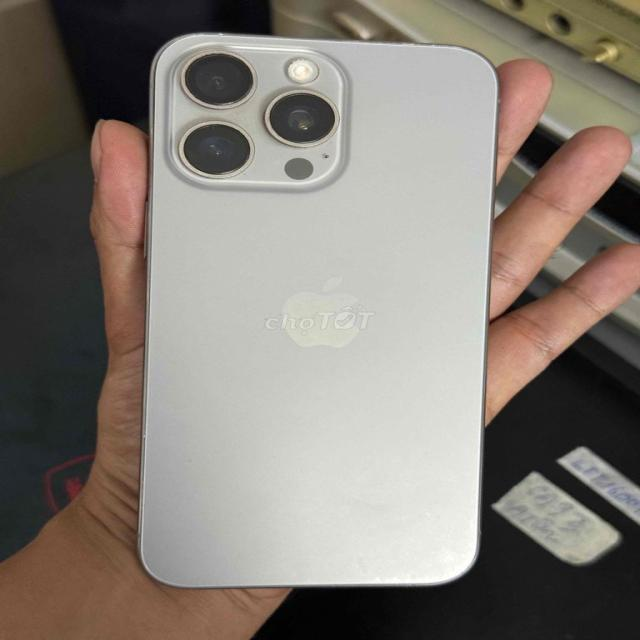gen_15: (133, 20, 499, 602)
